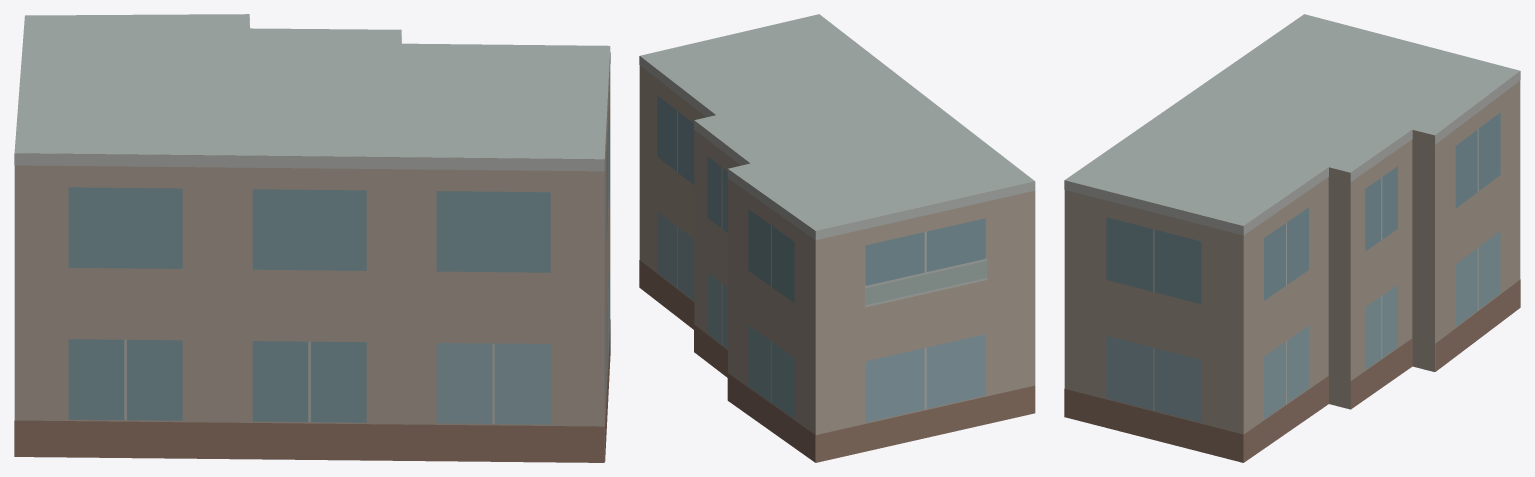
Rendered from survey-upis-32770832.glb.
The picture shows the model from 3 angles, left to right: view 1: azimuth 30°, elevation 25°; view 2: azimuth 150°, elevation 25°; view 3: azimuth 270°, elevation 25°; orthographic projection. The views are drawn at different scales.
Parts seen in each view (by area): view 1: survey-upis-32770832.tmp; view 2: survey-upis-32770832.tmp; view 3: survey-upis-32770832.tmp.
Boxes of the visible parts, bbox=[...] form: survey-upis-32770832.tmp: bbox=[14, 14, 610, 462]; survey-upis-32770832.tmp: bbox=[639, 14, 1035, 462]; survey-upis-32770832.tmp: bbox=[1064, 14, 1520, 462].
Size of the model in its own units: 11.72 by 6.1 by 10.66.
